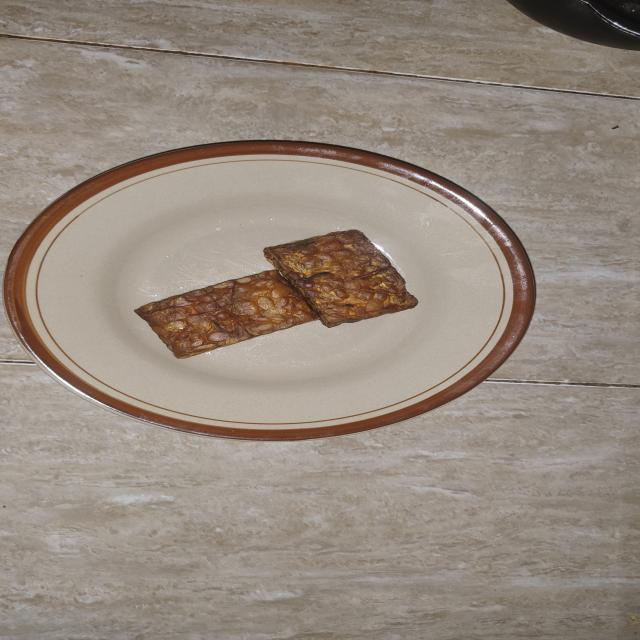tempe_goreng: (136, 269, 320, 358), (265, 230, 417, 327)
